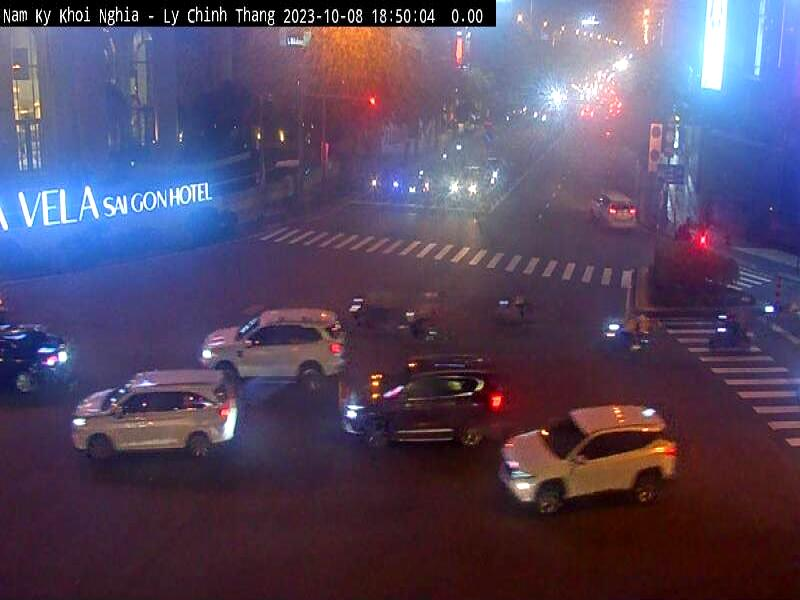car: (500, 397, 686, 520), (69, 369, 242, 476), (337, 347, 506, 456), (199, 308, 349, 409), (0, 304, 72, 404), (586, 184, 634, 238)
